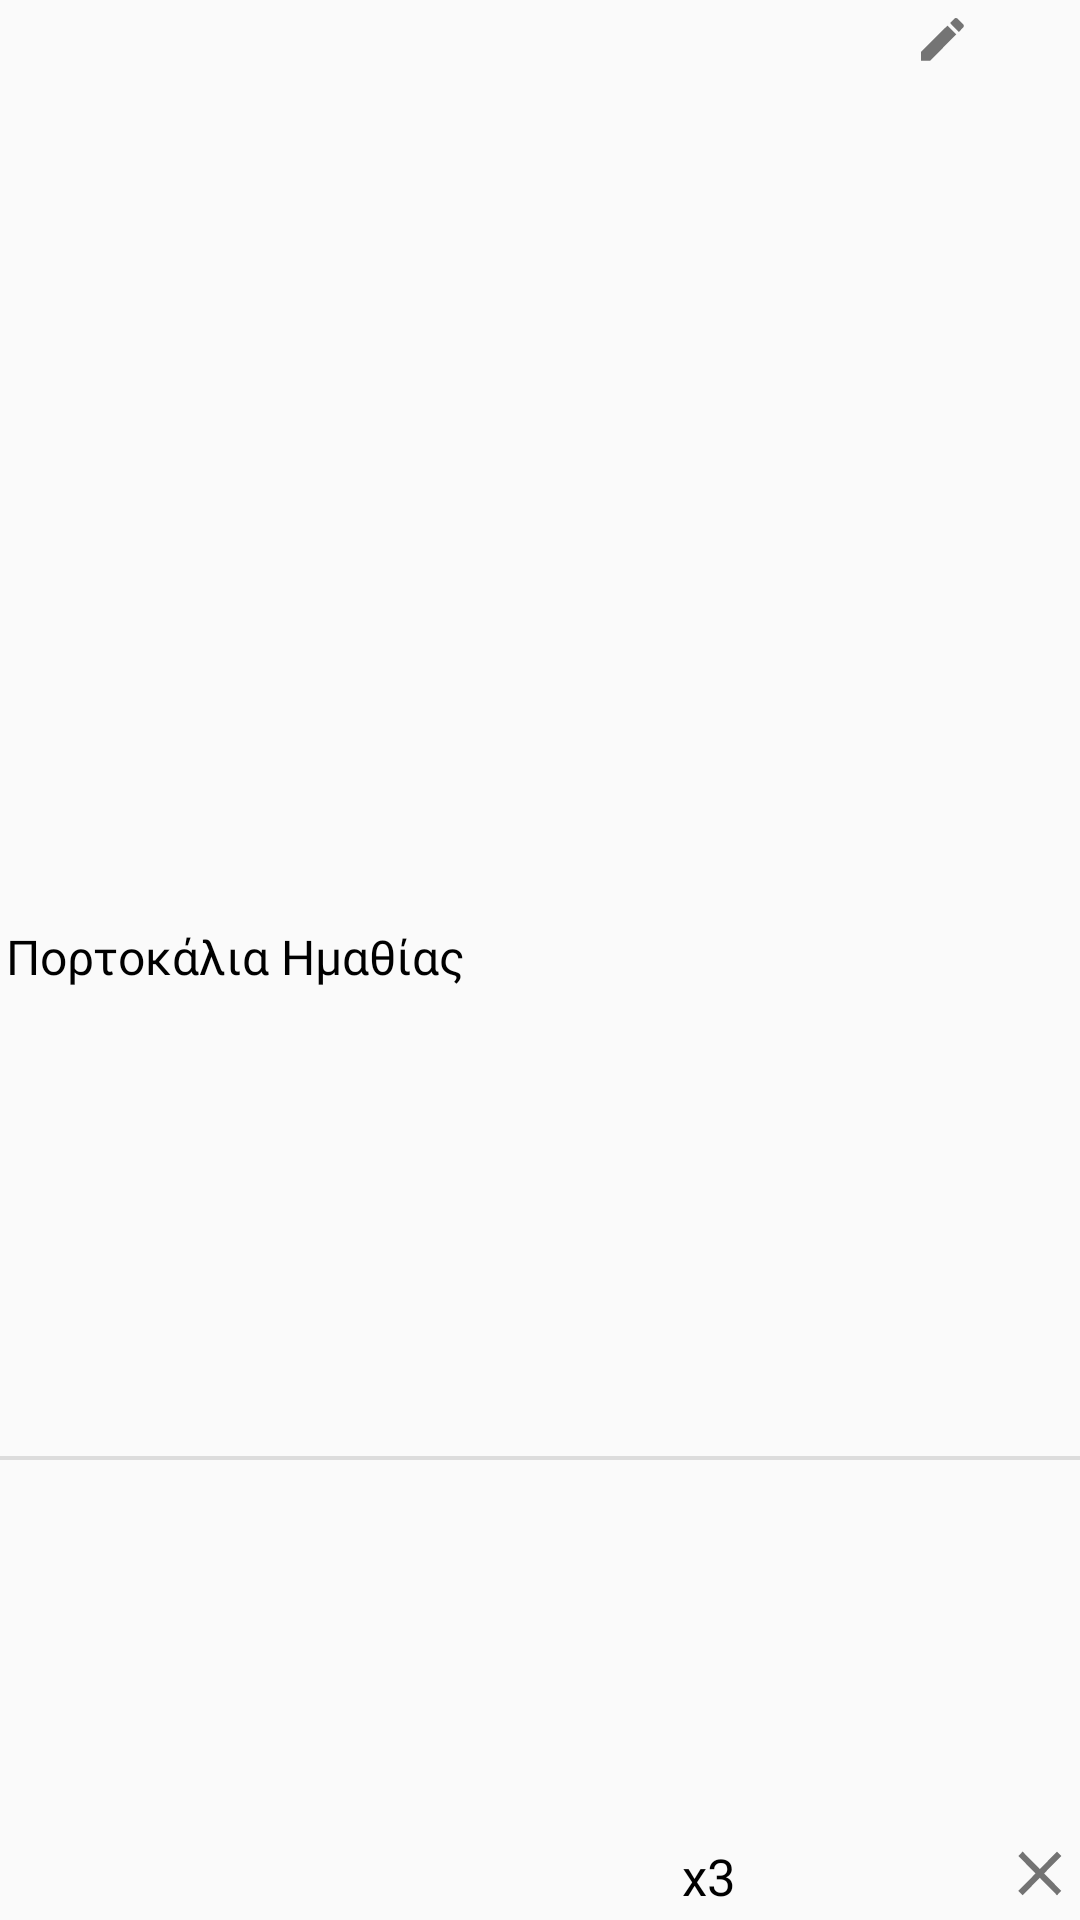

Where icons sit on this 1080×1920 app screen, as (x1, y1, x2, y2):
delete: (1018, 1851, 1061, 1895)
edit: (921, 18, 964, 61)
